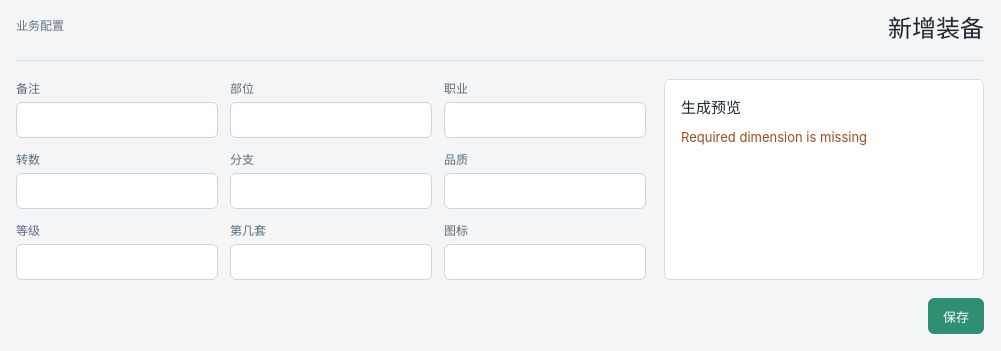
it: EquipEditPage › updates generated preview as manual dimensions change
Type "1" into the field labelled "部位" at (331, 120), box [230,102,432,138]
Type "1" into the field labelled "职业" at (545, 120), box [444,102,646,138]
Type "0" into the field labelled "转数" at (117, 191), box [16,173,218,209]
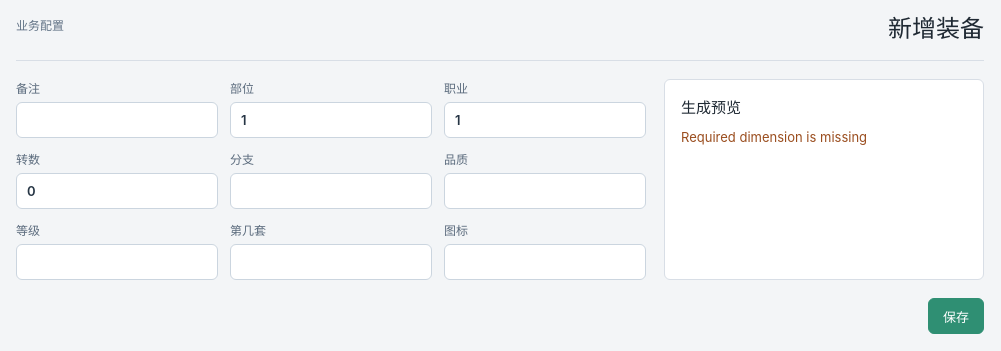
Type "1" into the field labelled "分支" at (331, 191), box [230,173,432,209]
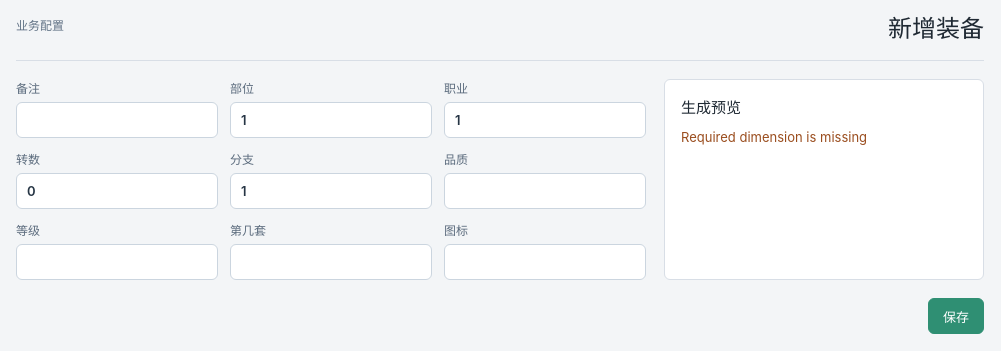
Type "1" into the field labelled "品质" at (545, 191), box [444,173,646,209]
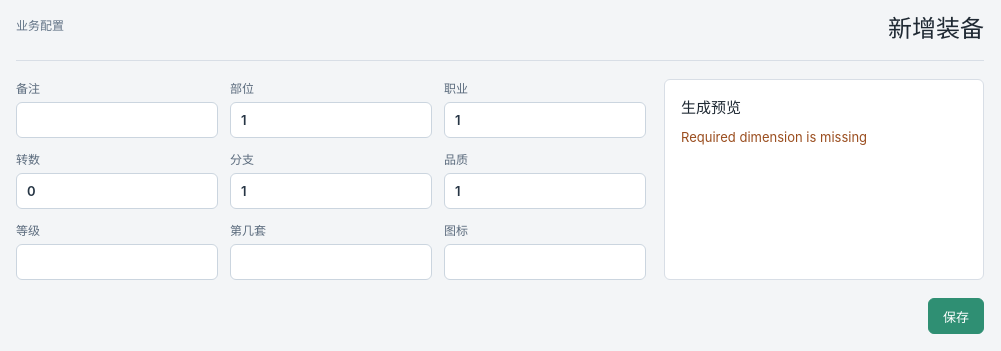
Type "1" into the field labelled "等级" at (117, 262), box [16,244,218,280]
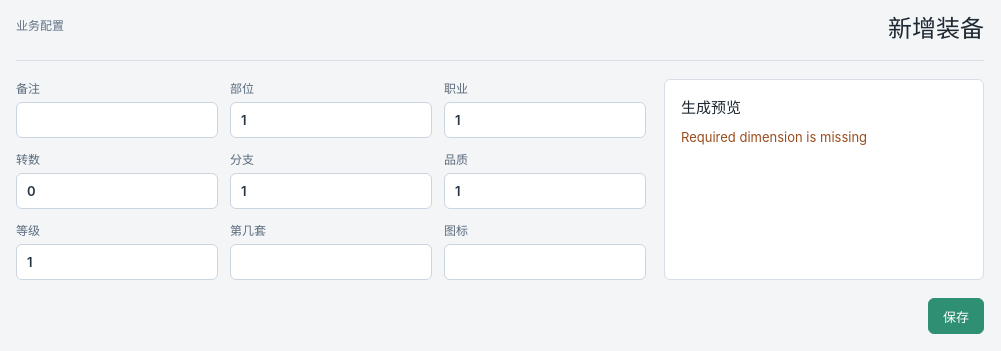
Type "1" into the field labelled "第几套" at (331, 262), box [230,244,432,280]
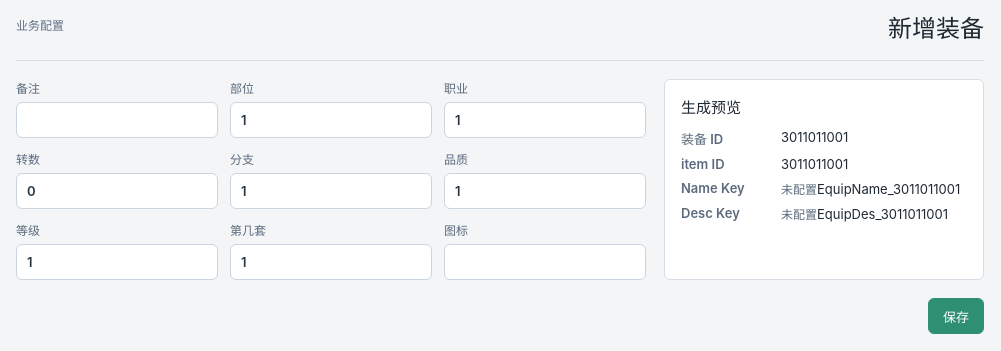
Expected: the text "3011011001" is shown 2 times, [781,129,848,145]; [781,156,848,172]
Expected: the text "EquipName_3011011001" is shown, [817,181,960,197]
Replace the text in the field labelled "第几套" with "2" at (331, 262), box [230,244,432,280]
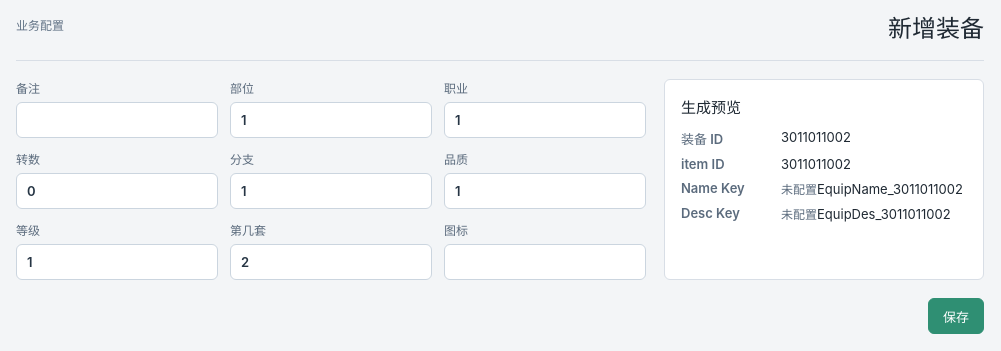
Expected: the text "3011011002" is shown 2 times, [781,129,851,145]; [781,156,851,172]
Expected: the text "EquipName_3011011002" is shown, [817,181,963,197]
